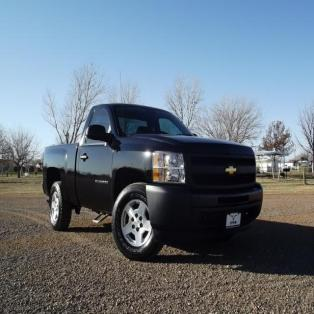Auto: (42, 102, 263, 262)
